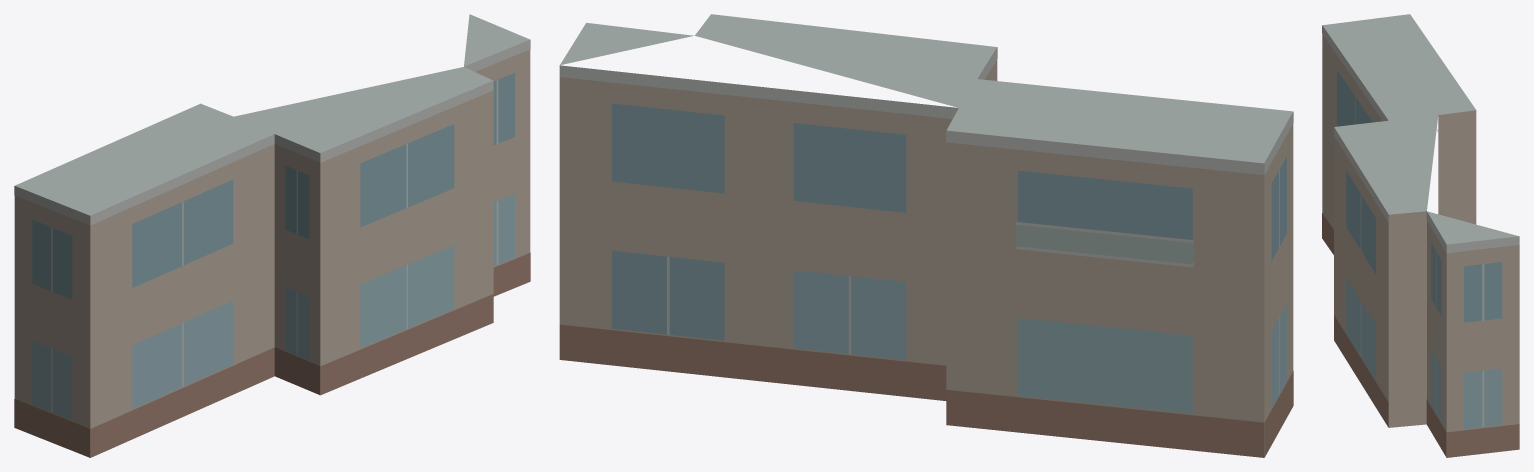
File: survey-upis-32774348.glb
3 renders of one model, left to right at view 1: azimuth 30°, elevation 25°; view 2: azimuth 150°, elevation 25°; view 3: azimuth 270°, elevation 25°, orthographic. The views are drawn at different scales.
Visible parts, largest first — view 1: survey-upis-32774348.tmp; view 2: survey-upis-32774348.tmp; view 3: survey-upis-32774348.tmp.
Part boxes in pixels (x1,y1,x2,y2): survey-upis-32774348.tmp: (14, 14, 530, 457); survey-upis-32774348.tmp: (559, 14, 1293, 457); survey-upis-32774348.tmp: (1322, 14, 1519, 457).
Size of the model in its own units: 14.16 by 6.1 by 5.13.
